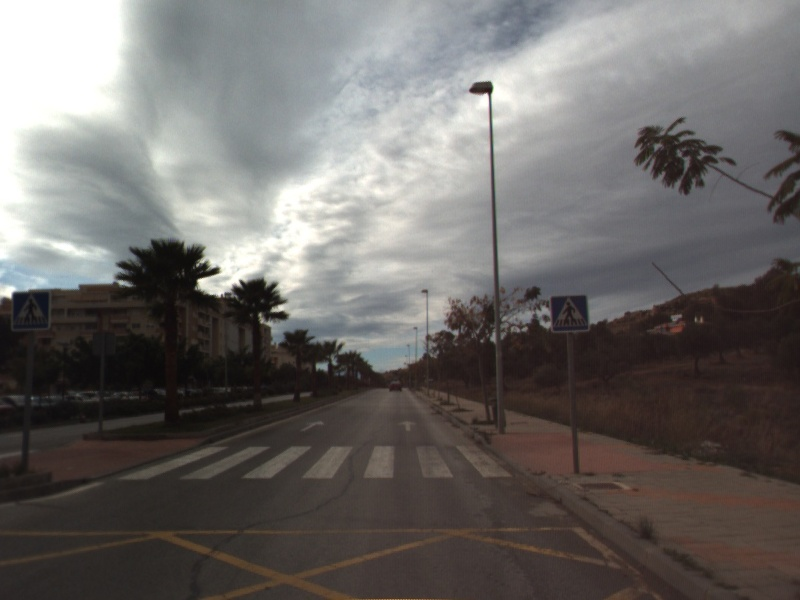STRAIGHT: (297, 418, 326, 434), (396, 418, 420, 433)
